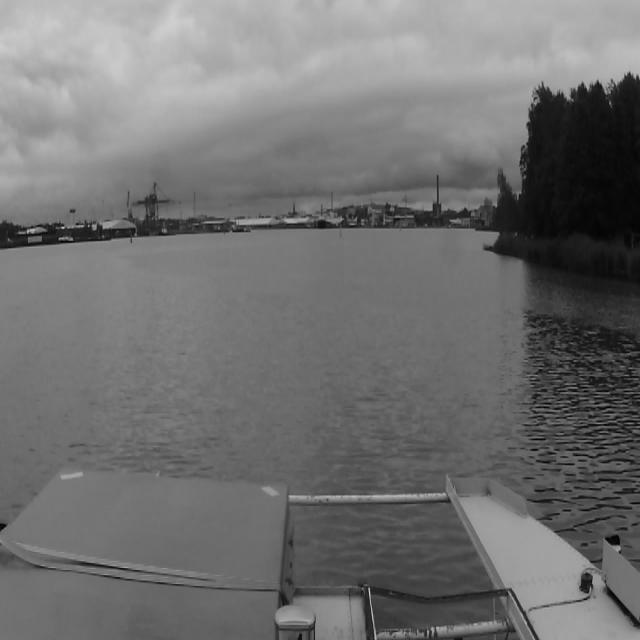buoy: (339, 225, 342, 237), (130, 234, 132, 244)
ship: (318, 203, 327, 229)
